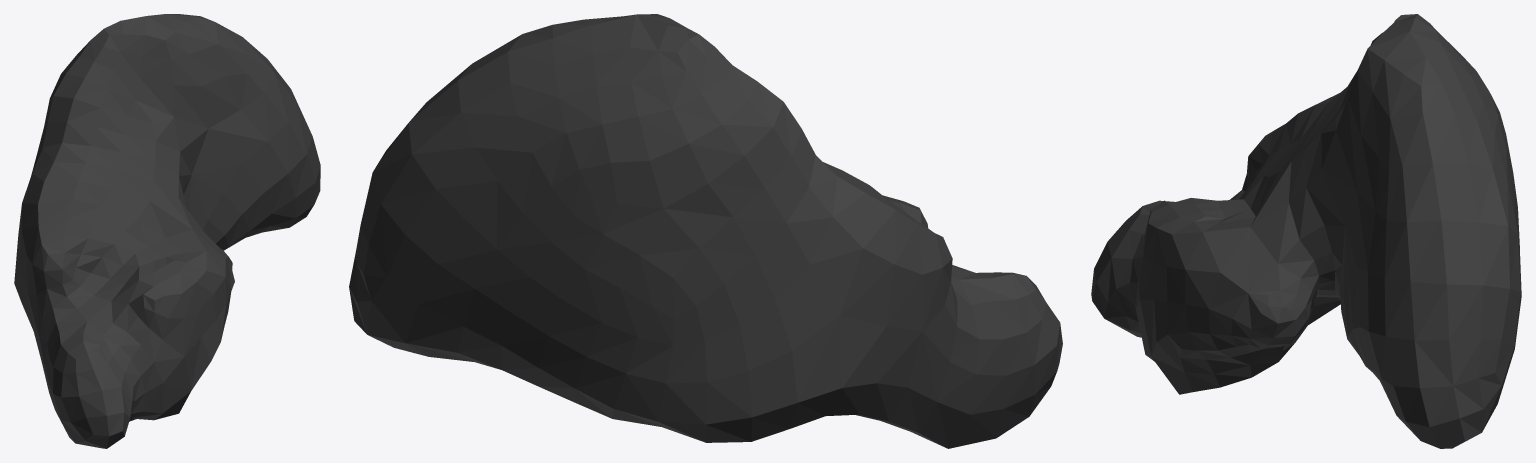
Rendered from First_tarsal.glb.
3 views of the same model, side by side, from view 1: azimuth 30°, elevation 25°; view 2: azimuth 150°, elevation 25°; view 3: azimuth 270°, elevation 25° (orthographic). The views are drawn at different scales.
Parts seen in each view (by area): view 1: First_tarsal; view 2: First_tarsal; view 3: First_tarsal.
Part boxes in pixels (x1,y1,x2,y2): First_tarsal: [14, 14, 320, 448]; First_tarsal: [349, 14, 1062, 448]; First_tarsal: [1091, 14, 1521, 448].
Size of the model in its own units: 85.21 by 70.67 by 67.95.
1 material, 1 textured.
